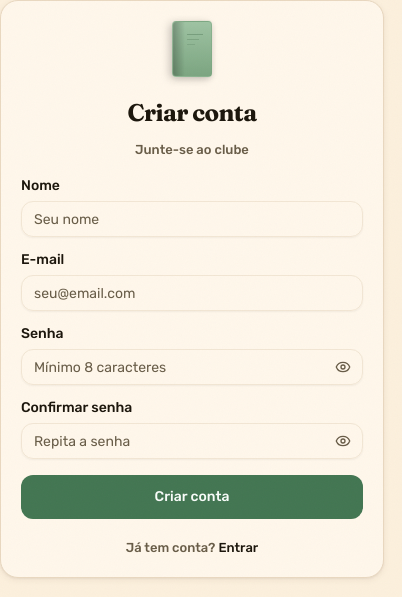
Test: RegisterPage › shows success screen after successful registration
In the field labelled "Nome": x=192, y=219 21,201 -> 363,237, type "Alice"
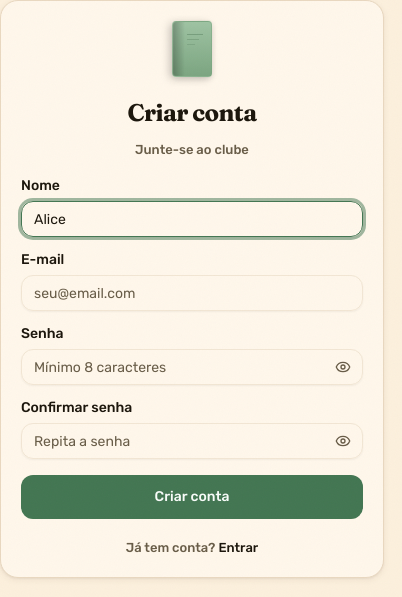
In the field labelled "E-mail": x=192, y=293 21,275 -> 363,311, type "alice@example.com"
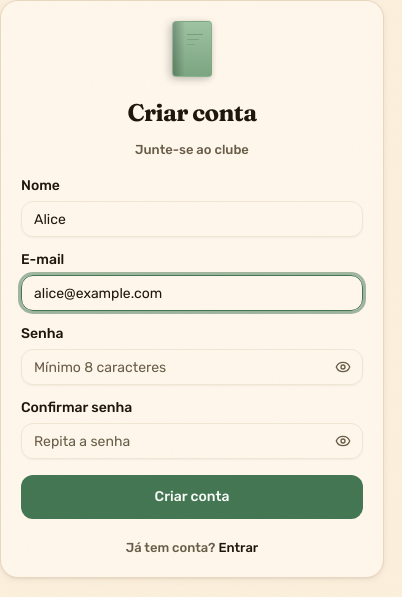
In the password field labelled "Senha": x=192, y=367 21,349 -> 363,385, type "password123"
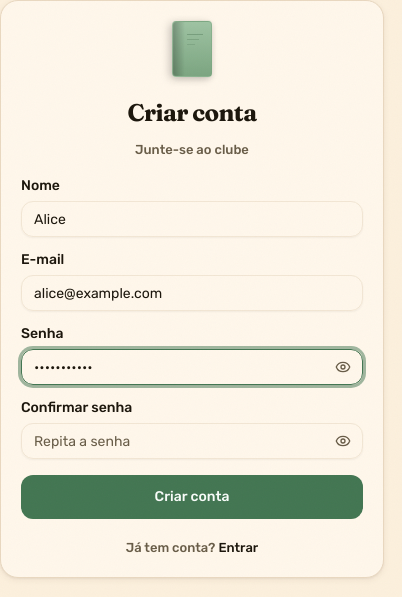
In the password field labelled "Confirmar senha": x=192, y=441 21,423 -> 363,459, type "password123"
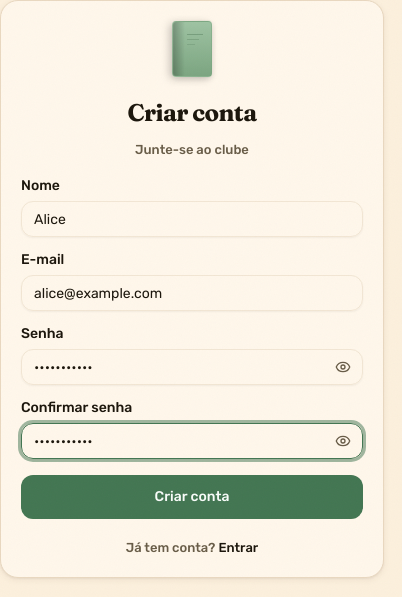
Click the button "Criar conta": x=192, y=497 21,475 -> 363,519
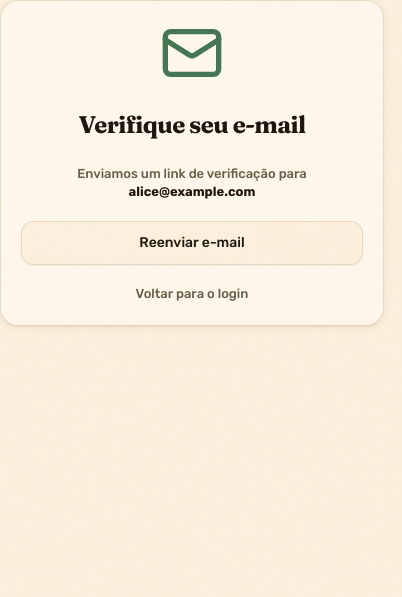
Now the heading "Verifique seu e-mail" is shown, box 79,110 -> 306,139
Now the text "alice@example.com" is shown, box 129,184 -> 255,199
Now the button "Reenviar e-mail" is shown, box 21,221 -> 363,265
